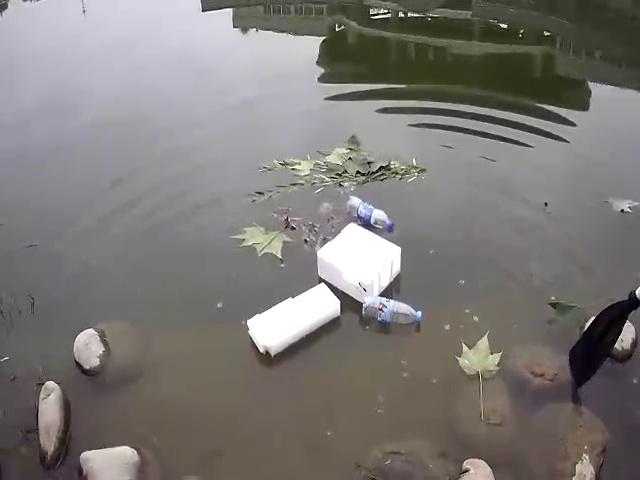bottle: (338, 186, 397, 233), (351, 292, 423, 329)
leaf: (252, 139, 430, 192), (232, 218, 289, 266), (451, 332, 504, 379), (602, 185, 640, 219)
paomo: (239, 278, 345, 351), (314, 217, 407, 297)
